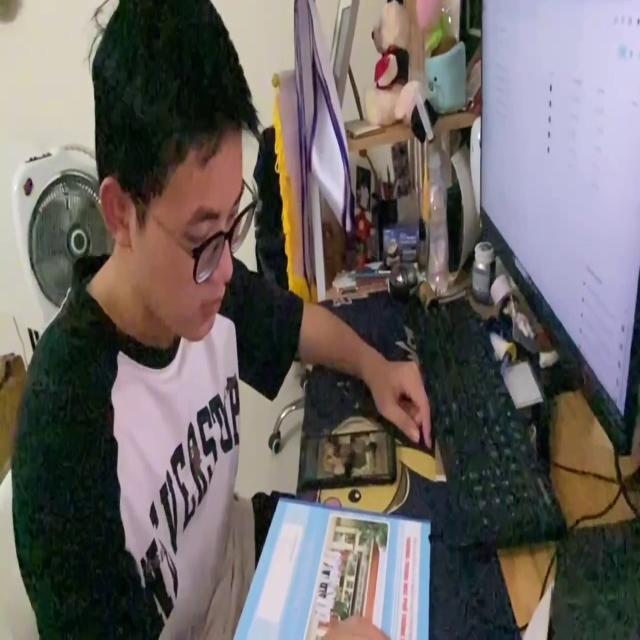book: (226, 494, 429, 640)
laptop: (478, 0, 640, 464)
phone: (300, 424, 395, 488)
student: (9, 0, 434, 640)
